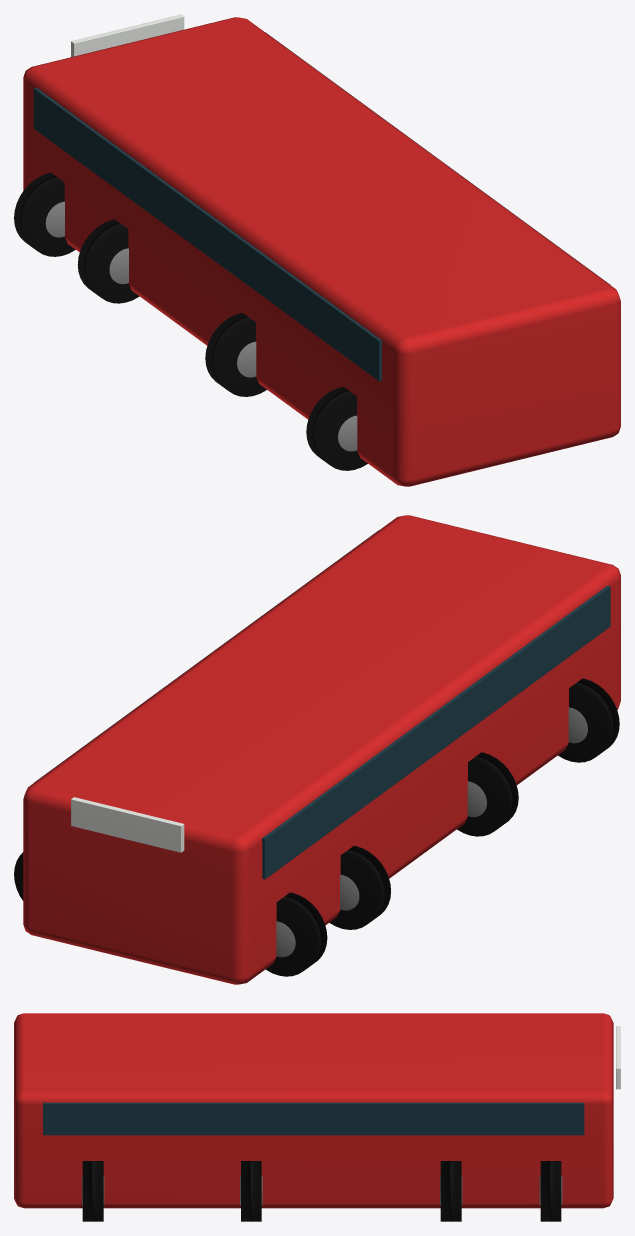
File: city_bus_photoreal_proxy.fbx
3 views of the same model, one above another, from view 1: azimuth 30°, elevation 25°; view 2: azimuth 150°, elevation 25°; view 3: azimuth 270°, elevation 25° (orthographic). The views are drawn at different scales.
Parts seen in each view (by area): view 1: bus_body, bus_window_ribbon_left, bus_tire.002, bus_tire, bus_tire.001, bus_tire.003, bus_destination_sign; view 2: bus_body, bus_window_ribbon_left, bus_destination_sign, bus_tire.003, bus_tire, bus_tire.002, bus_tire.001; view 3: bus_body, bus_window_ribbon_right, bus_tire.004, bus_tire.006, bus_tire.007, bus_tire.005, bus_destination_sign.
Part boxes in pixels (x1,y1,x2,y2): bus_body: (23,17,620,486); bus_window_ribbon_left: (33,87,382,381); bus_tire.002: (77,219,139,303); bus_tire: (306,386,367,470); bus_tire.001: (205,312,266,396); bus_tire.003: (14,172,75,256); bus_destination_sign: (71,14,184,56); bus_body: (23,515,620,984); bus_window_ribbon_left: (262,585,610,879); bus_destination_sign: (71,797,184,852); bus_tire.003: (266,892,327,976); bus_tire: (558,678,619,762); bus_tire.002: (329,846,390,929); bus_tire.001: (457,752,518,836); bus_body: (14,1013,613,1208); bus_window_ribbon_right: (43,1102,584,1135); bus_tire.004: (82,1161,103,1221); bus_tire.006: (440,1161,461,1221); bus_tire.007: (540,1161,561,1221); bus_tire.005: (241,1161,261,1221); bus_destination_sign: (616,1026,620,1089).
Bounding box in the file's own units: 326 × 169 × 729.
